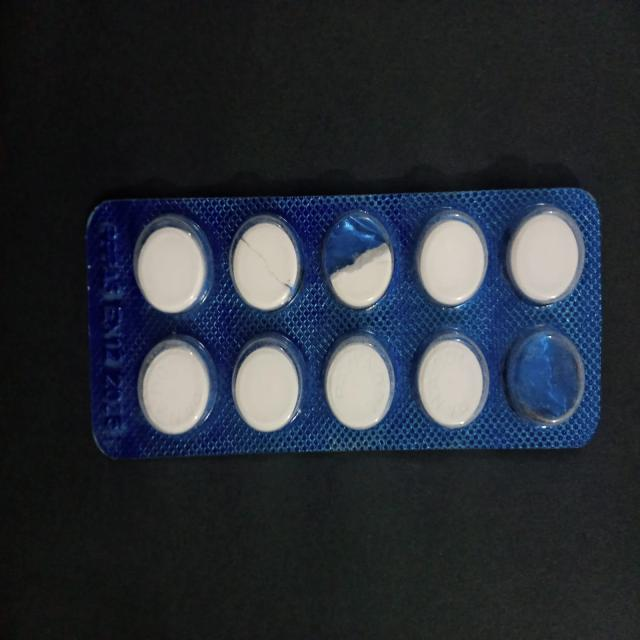defect: (501, 321, 588, 431), (227, 209, 309, 317), (318, 205, 397, 314)
